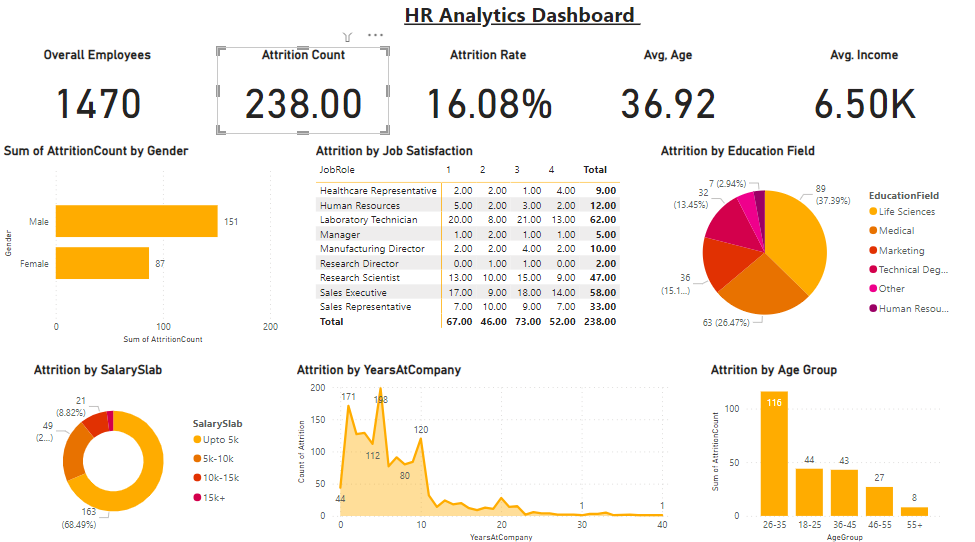

Layout of this report page (visuals, bound fields, positions):
{"tool":"powerbi","page":{"name":"Dashboard","canvas":[1280,720],"ordinal":0},"visuals":[{"type":"card","title":"Overall Employees","fields":{"Values":["Count(HR_Analytics.EmpID)"]},"box":[0,66.2,254.9,113.8],"z":0},{"type":"card","title":"Attrition Count","fields":{"Values":["Sum(HR_Analytics.AttritionCount)"]},"box":[283.7,66.2,226.1,113.8],"z":1000},{"type":"card","title":"Attrition Rate","fields":{"Values":["HR_Analytics.AttritionRate"]},"box":[527,66.2,223.2,113.8],"z":2000},{"type":"card","title":"Avg, Age","fields":{"Values":["Avg(HR_Analytics.Age)"]},"box":[764.6,66.2,220.3,113.8],"z":3000},{"type":"card","title":"Avg. Income","fields":{"Values":["Avg(HR_Analytics.MonthlyIncome)"]},"box":[1002.2,66.2,257.8,113.8],"z":4000},{"type":"pivotTable","title":"Attrition by Job Satisfaction","fields":{"Rows":["HR_Analytics.JobRole"],"Columns":["HR_Analytics.JobSatisfaction"],"Values":["Sum(HR_Analytics.AttritionCount)"]},"box":[409,193,409,267.8],"z":5000},{"type":"pieChart","title":"Attrition by Education Field","fields":{"Y":["Sum(HR_Analytics.AttritionCount)"],"Category":["HR_Analytics.EducationField"]},"box":[859.7,193,400.3,267.8],"z":6000},{"type":"barChart","fields":{"Category":["HR_Analytics.Gender"],"Y":["Sum(HR_Analytics.AttritionCount)"]},"box":[0,193,368.6,267.8],"z":7000},{"type":"columnChart","title":"Attrition by Age Group","fields":{"Category":["HR_Analytics.AgeGroup"],"Y":["Sum(HR_Analytics.AttritionCount)"]},"box":[925.9,479.5,313.9,240.5],"z":8000},{"type":"donutChart","title":"Attrition by SalarySlab","fields":{"Y":["Sum(HR_Analytics.AttritionCount)"],"Category":["HR_Analytics.SalarySlab"]},"box":[38.9,479.5,301,240.5],"z":9000},{"type":"areaChart","title":"Attrition by YearsAtCompany","fields":{"Category":["HR_Analytics.YearsAtCompany"],"Y":["CountNonNull(HR_Analytics.Attrition)"]},"box":[383,479.5,498.2,240.5],"z":10000},{"type":"textbox","box":[440.6,0,485.3,47.5],"z":11000}]}

Visuals, with their boxes in screenshot pixels (x1, y1, x2, y2), scaled from the page's 1280x720 canvas onto the 975x542 screenshot:
"Overall Employees" card: x1=0, y1=50, x2=194, y2=136
"Attrition Count" card: x1=216, y1=50, x2=388, y2=136
"Attrition Rate" card: x1=401, y1=50, x2=571, y2=136
"Avg, Age" card: x1=582, y1=50, x2=750, y2=136
"Avg. Income" card: x1=763, y1=50, x2=960, y2=136
"Attrition by Job Satisfaction" pivotTable: x1=312, y1=145, x2=623, y2=347
"Attrition by Education Field" pieChart: x1=655, y1=145, x2=960, y2=347
barChart - HR_Analytics.Gender x Sum(HR_Analytics.AttritionCount): x1=0, y1=145, x2=281, y2=347
"Attrition by Age Group" columnChart: x1=705, y1=361, x2=944, y2=541
"Attrition by SalarySlab" donutChart: x1=30, y1=361, x2=259, y2=541
"Attrition by YearsAtCompany" areaChart: x1=292, y1=361, x2=671, y2=541
textbox: x1=336, y1=0, x2=705, y2=36
